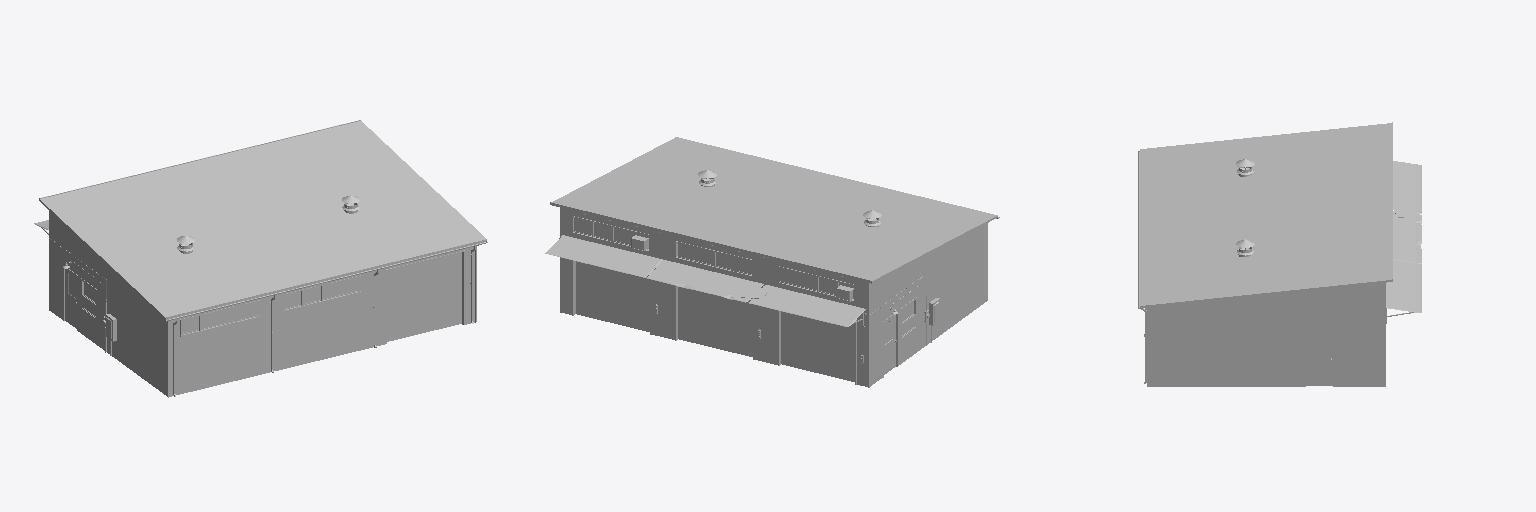
Rendered from edificio 2.obj.
3 renders of one model, left to right at view 1: azimuth 30°, elevation 25°; view 2: azimuth 150°, elevation 25°; view 3: azimuth 270°, elevation 25°, orthographic.
Parts seen in each view (by area): view 1: warehouse; view 2: warehouse; view 3: warehouse.
Part boxes in pixels (x1,y1,x2,y2): warehouse: (34,120,487,397); warehouse: (545,137,999,387); warehouse: (1138,122,1421,386).
Bounding box in the file's own units: 80.2 × 26.39 × 61.1.